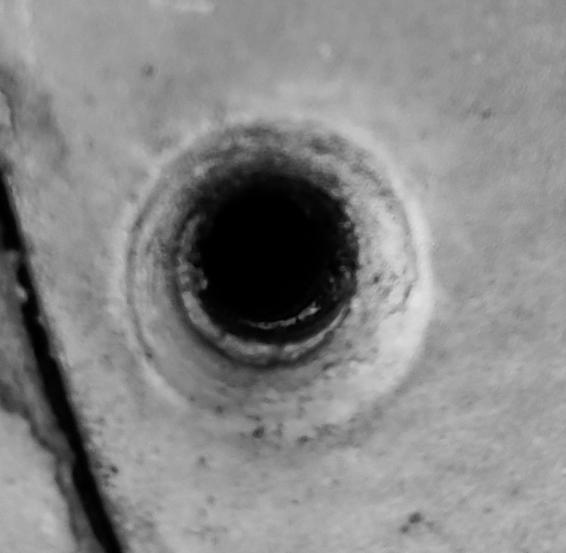missing-head: (0, 1, 566, 553)
